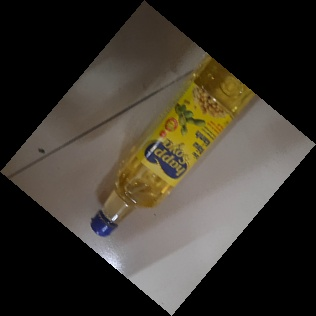Happy Soya: (88, 38, 264, 234)
